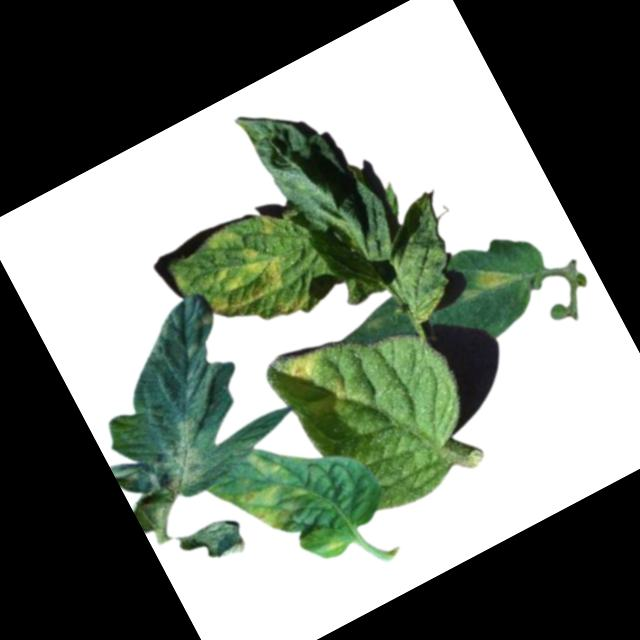Leaf_Mold: (194, 237, 311, 350), (211, 439, 316, 548), (137, 411, 227, 498), (284, 341, 332, 385), (470, 257, 518, 298), (256, 208, 285, 240), (330, 373, 352, 398)
